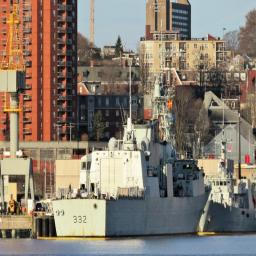Fragata: (50, 14, 215, 240)
